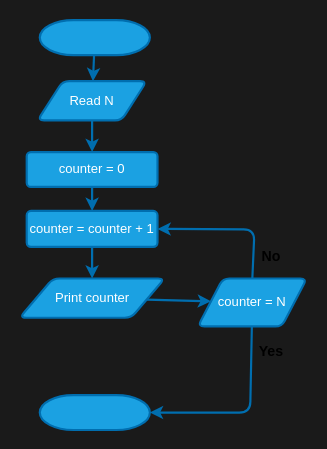
This 327x449 diagram has some shape labels left out. Here are the shapes that lost their labels. From the top down, the box of each, then its label:
(38, 19, 150, 56): Start
(38, 393, 150, 431): End
